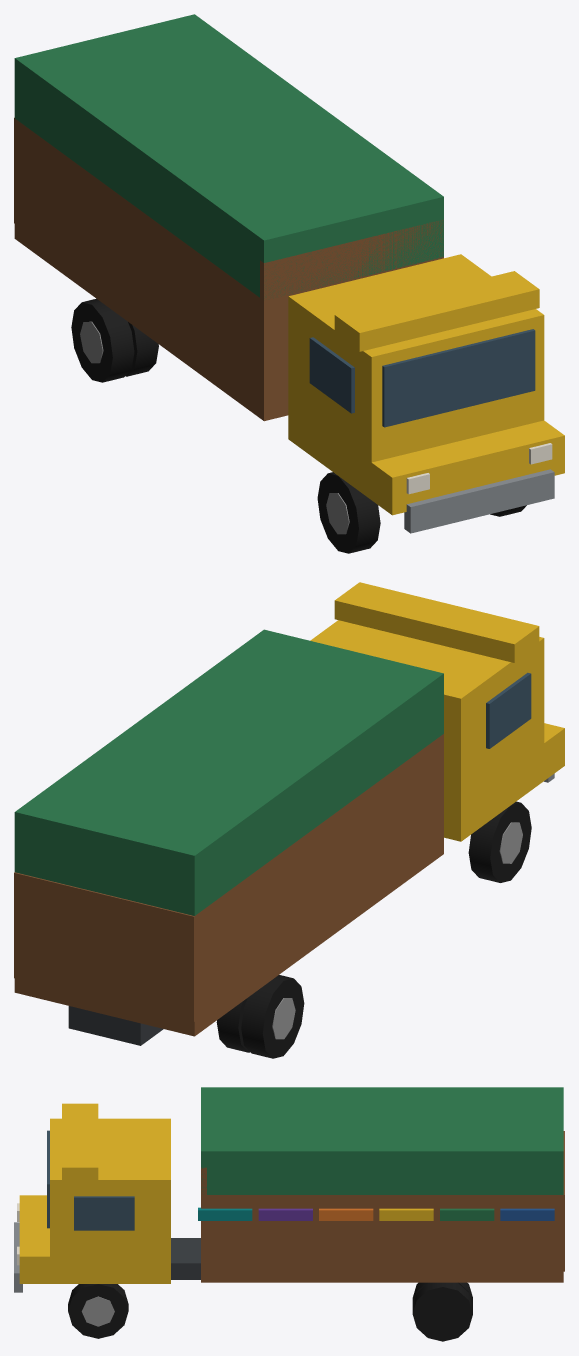
File: lorry_rigid_1.glb
The picture shows the model from 3 angles, top to bottom: view 1: azimuth 30°, elevation 25°; view 2: azimuth 150°, elevation 25°; view 3: azimuth 270°, elevation 25°; orthographic projection. The views are drawn at different scales.
Parts seen in each view (by area): view 1: lorry_rigid_1, wheel_RL, wheel_FL; view 2: lorry_rigid_1, wheel_RL, wheel_FL; view 3: lorry_rigid_1, wheel_RR, wheel_FR.
Part boxes in pixels (x1,y1,x2,y2): lorry_rigid_1: (14,14,564,533); wheel_RL: (71,298,158,382); wheel_FL: (317,472,380,553); lorry_rigid_1: (14,582,564,1045); wheel_RL: (216,975,304,1058); wheel_FL: (468,801,531,882); lorry_rigid_1: (14,1087,564,1292); wheel_RR: (412,1282,472,1341); wheel_FR: (68,1284,128,1338).
Bounding box in the file's own units: 2.65 × 3.45 × 9.11.
